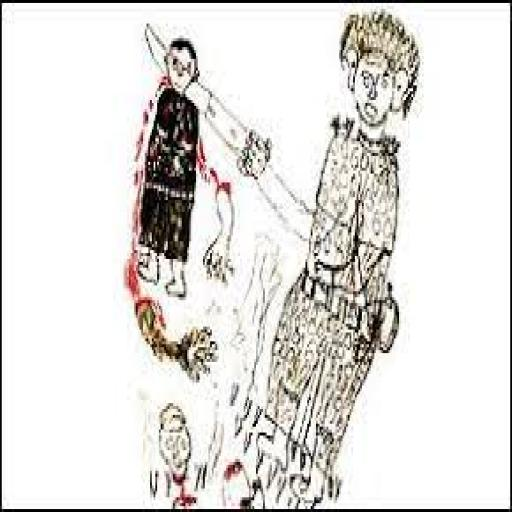person: (235, 4, 445, 502), (129, 18, 215, 300), (143, 387, 207, 506)
